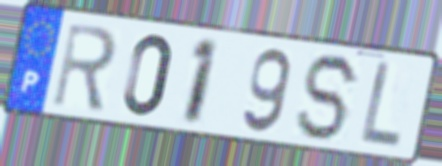0: (120, 31, 175, 119)
1: (184, 36, 219, 129)
9: (240, 45, 293, 134)
L: (357, 58, 405, 152)
R: (49, 20, 119, 114)
S: (293, 51, 365, 144)
